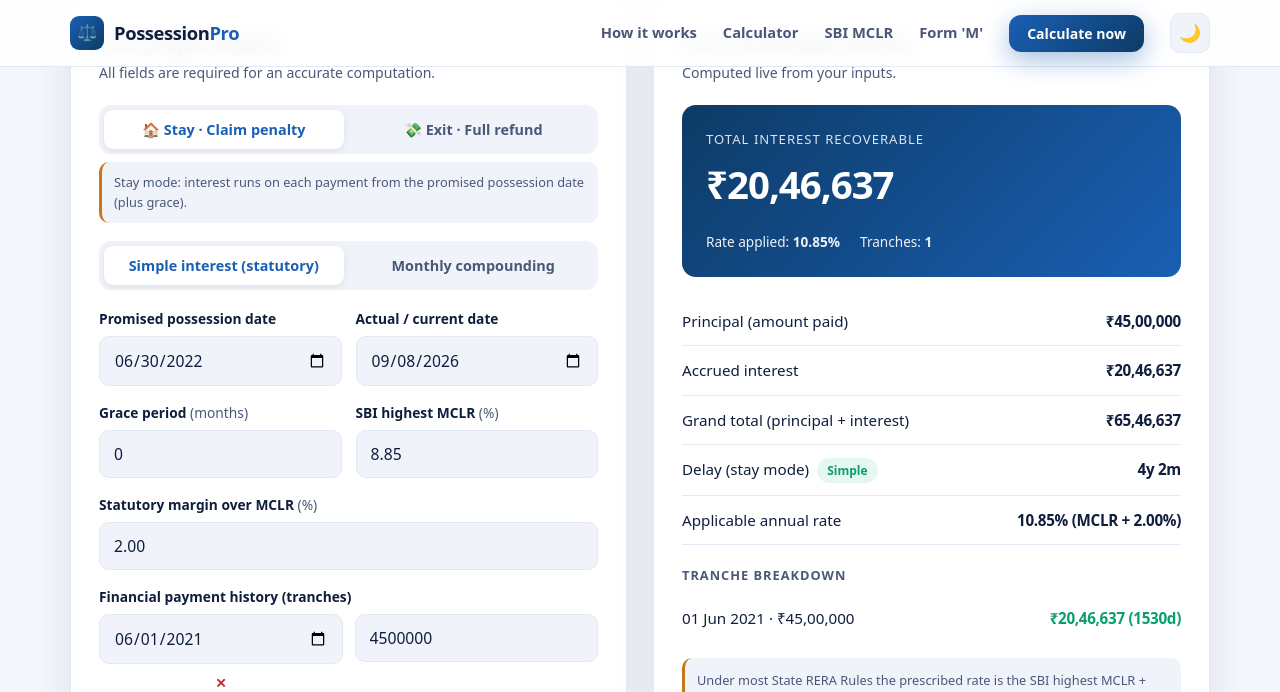
PossessionPro app › switch to refund mode grows interest from each payment date
The width and height of the screenshot is (1280, 692).
(page scrolled)
Type "2024-06-30" into the date field below "Actual / current date" at [477, 361], box x1=356 y1=336 x2=598 y2=386
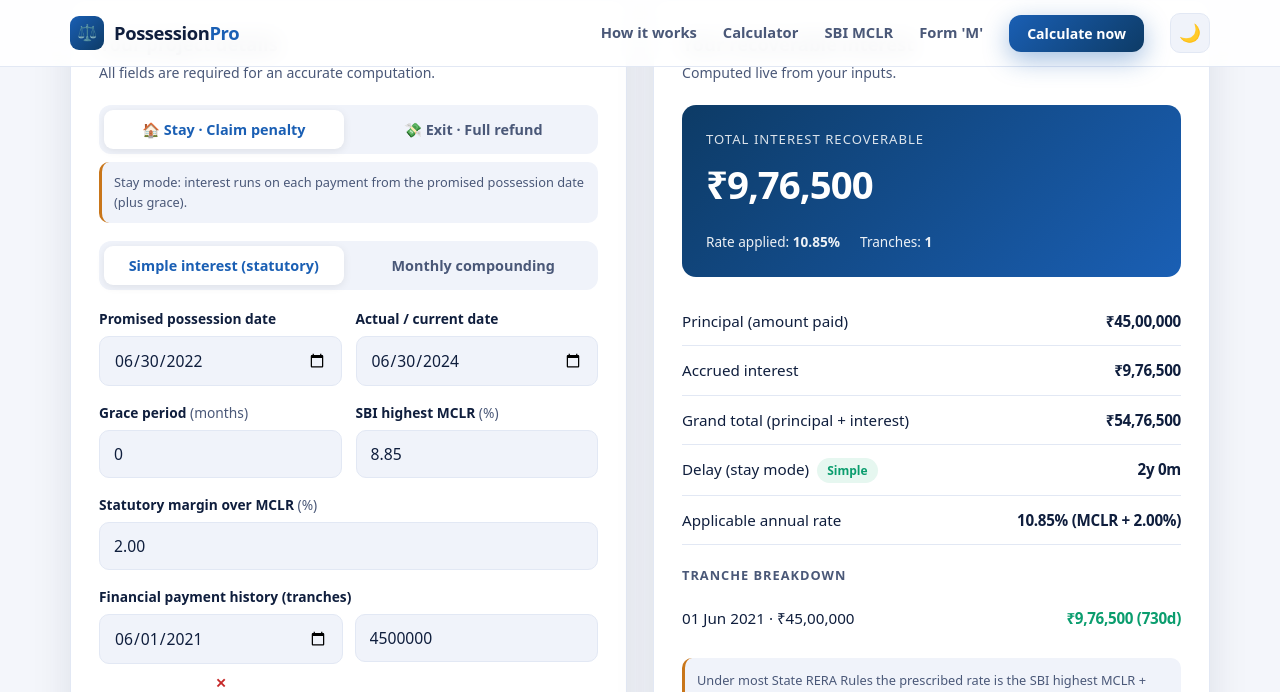
Click the button "💸 Exit · Full refund" at [473, 129], box x1=354 y1=110 x2=593 y2=149
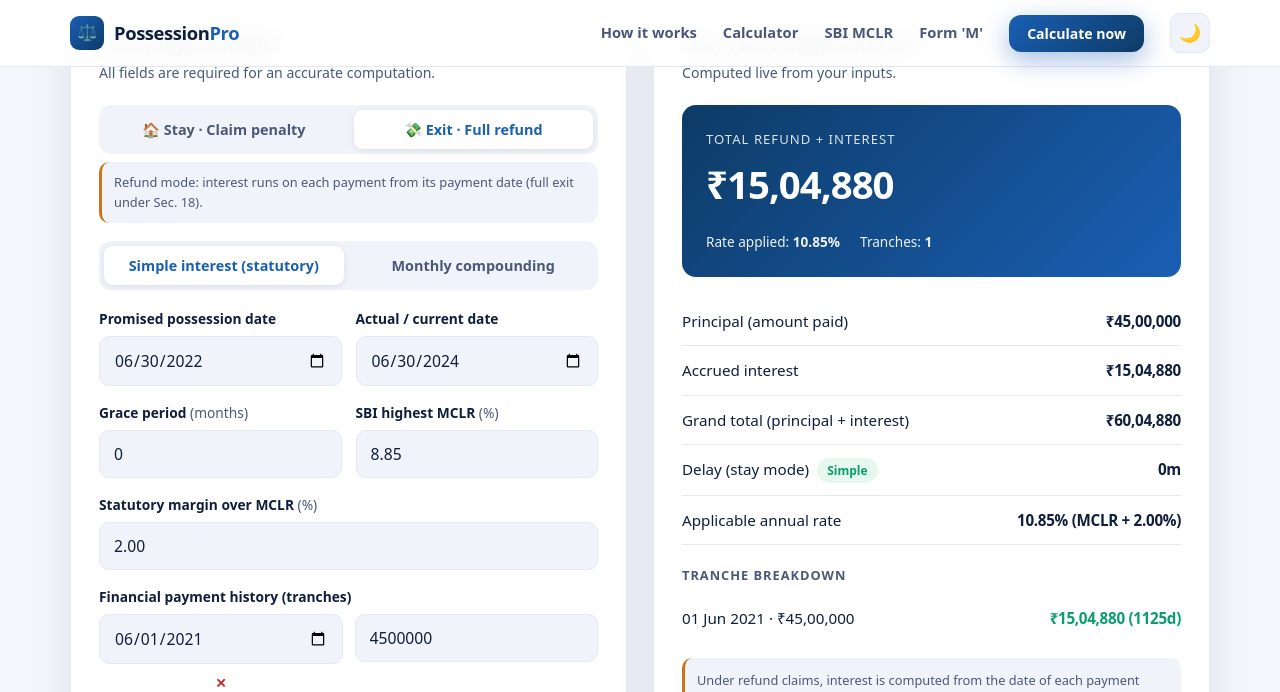
Expected: the text "Total refund + interest" is shown, x1=706 y1=130 x2=896 y2=148
